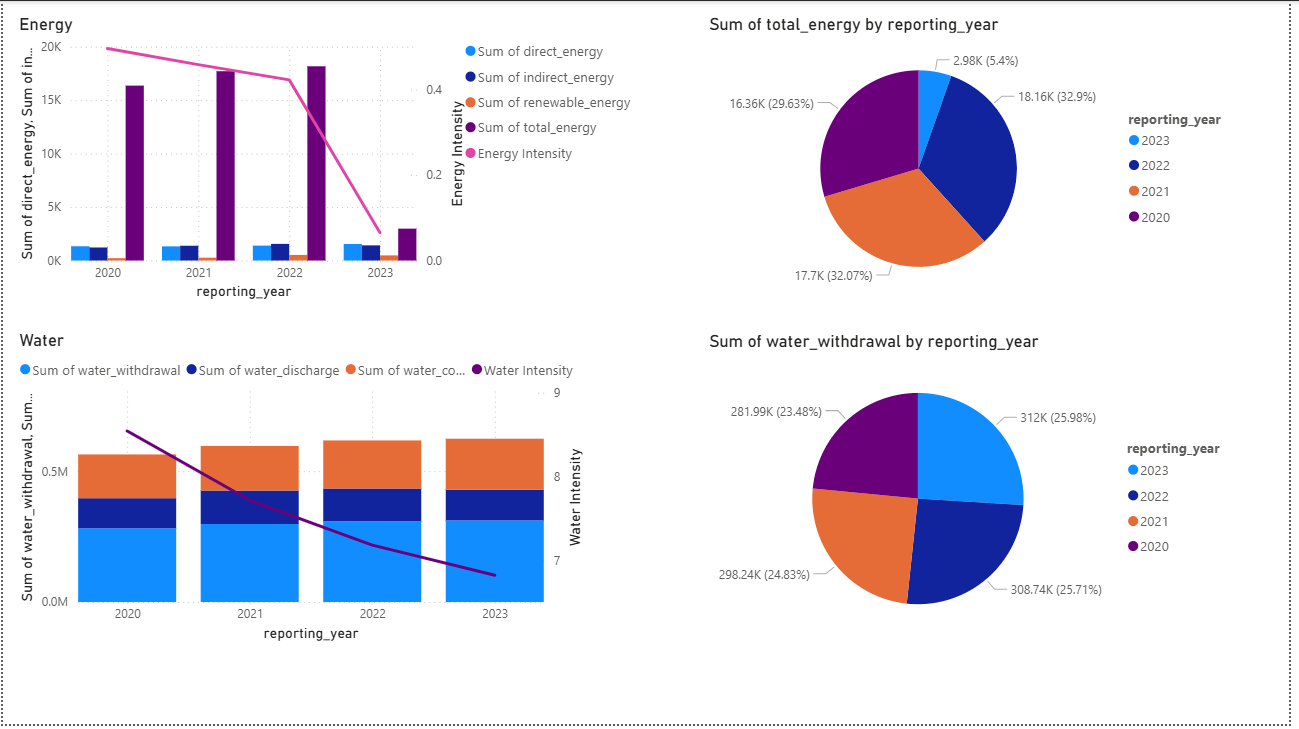

This screenshot's page, from the dashboard's own definition file:
{"tool":"powerbi","page":{"name":"ESG","canvas":[1280,720],"ordinal":6},"visuals":[{"type":"lineClusteredColumnComboChart","title":"Energy","fields":{"Category":["ESG.reporting_year"],"Y":["Sum(ESG.direct_energy)","Sum(ESG.indirect_energy)","Sum(ESG.renewable_energy)","Sum(ESG.total_energy)"],"Y2":["Intensity.Energy Intensity"]},"box":[11.2,12.4,628.2,289.8],"z":0},{"type":"lineStackedColumnComboChart","title":"Water","fields":{"Category":["ESG.reporting_year"],"Y":["Sum(ESG.water_withdrawal)","Sum(ESG.water_discharge)","Sum(ESG.water_consumption)"],"Y2":["Intensity.Water Intensity"]},"box":[11.2,327.2,571,314.7],"z":1000},{"type":"pieChart","fields":{"Series":["ESG.reporting_year"],"Y":["Sum(ESG.total_energy)"]},"box":[697.9,12.4,534.9,289.8],"z":2000},{"type":"pieChart","fields":{"Y":["Sum(ESG.water_withdrawal)"],"Category":["ESG.reporting_year"]},"box":[697.9,328.4,533.7,314.7],"z":3000}]}

Visuals, with their boxes in screenshot pixels (x1, y1, x2, y2), scaled from the page's 1280x720 canvas onto the 1299x729 screenshot:
"Energy" lineClusteredColumnComboChart: box(11, 13, 649, 306)
"Water" lineStackedColumnComboChart: box(11, 331, 591, 650)
pieChart - ESG.reporting_year x Sum(ESG.total_energy): box(708, 13, 1251, 306)
pieChart - Sum(ESG.water_withdrawal) x ESG.reporting_year: box(708, 333, 1250, 651)
